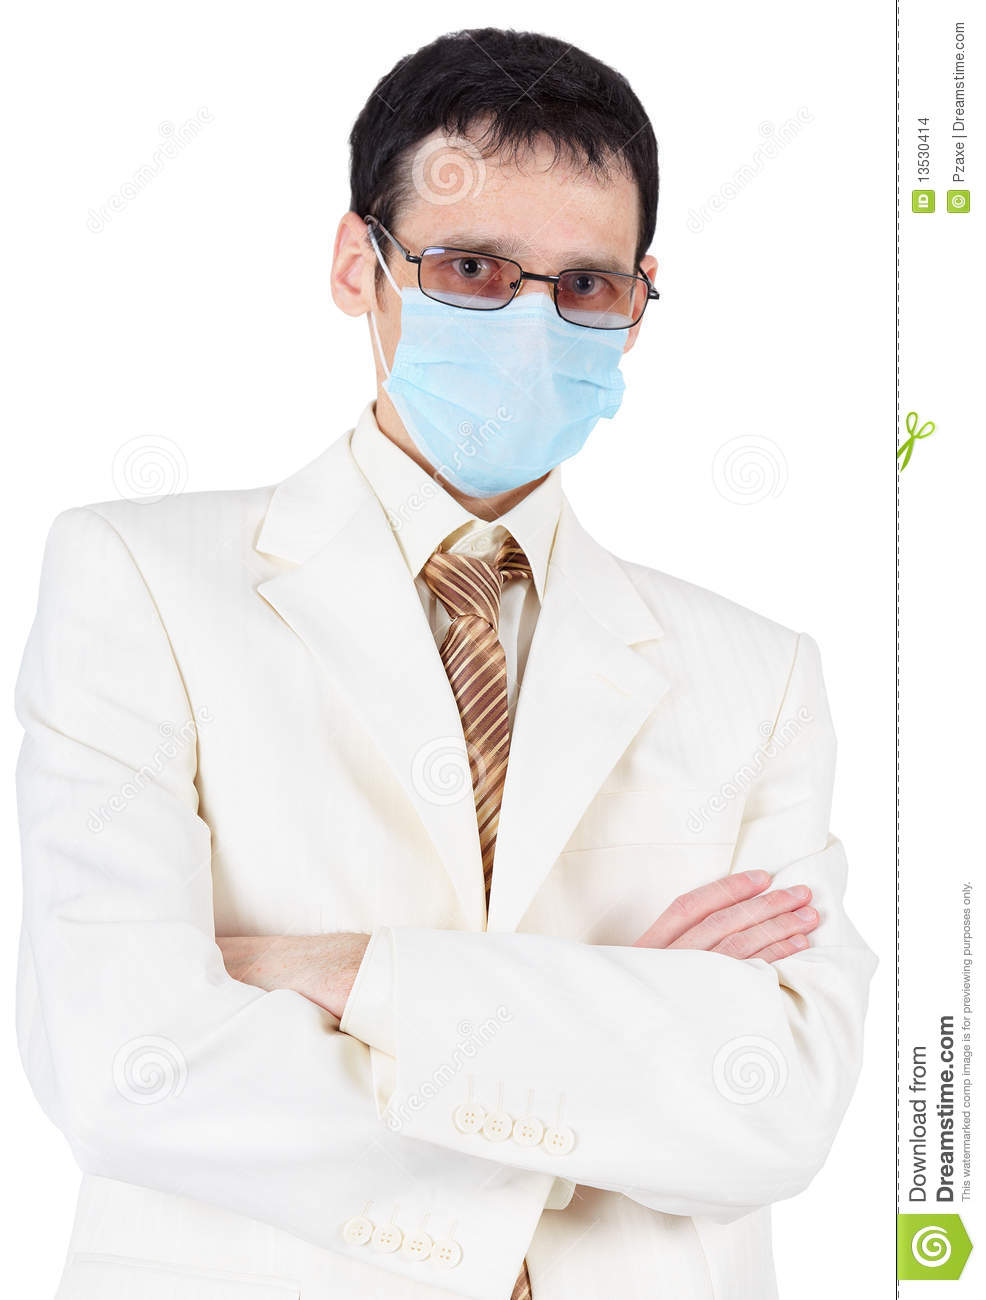mask: (382, 285, 624, 498)
